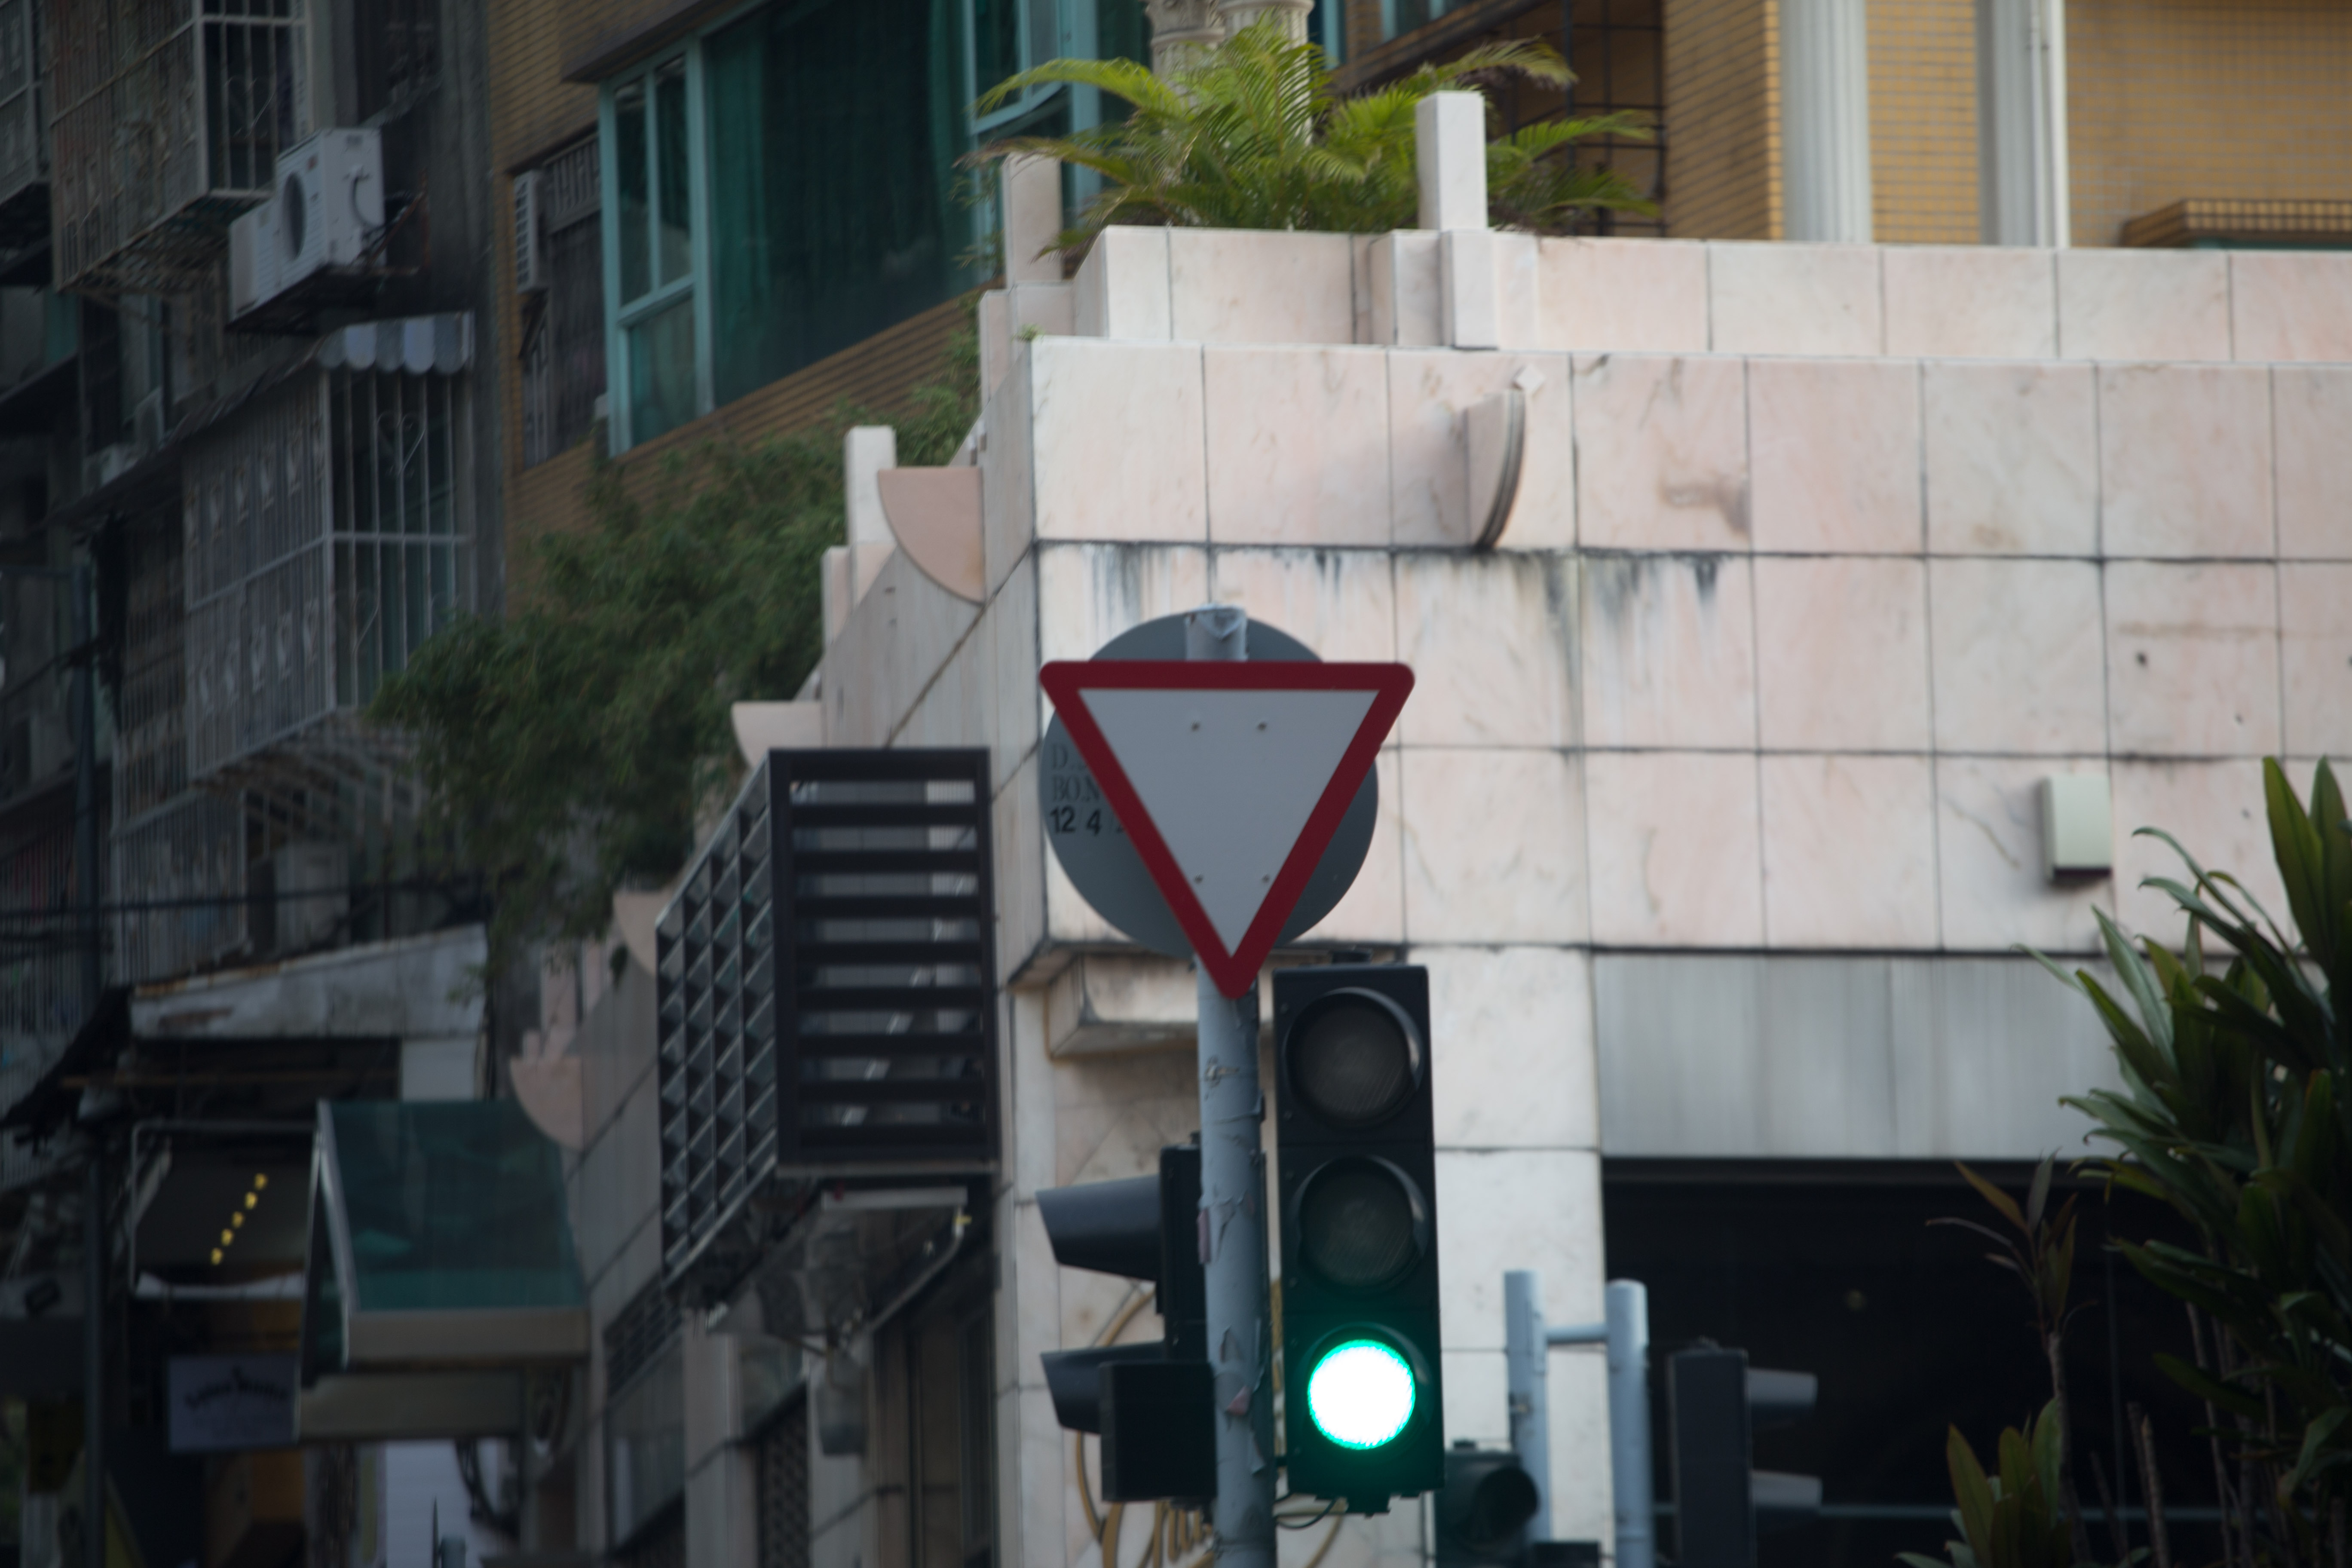yield: (1011, 628, 1430, 1020)
